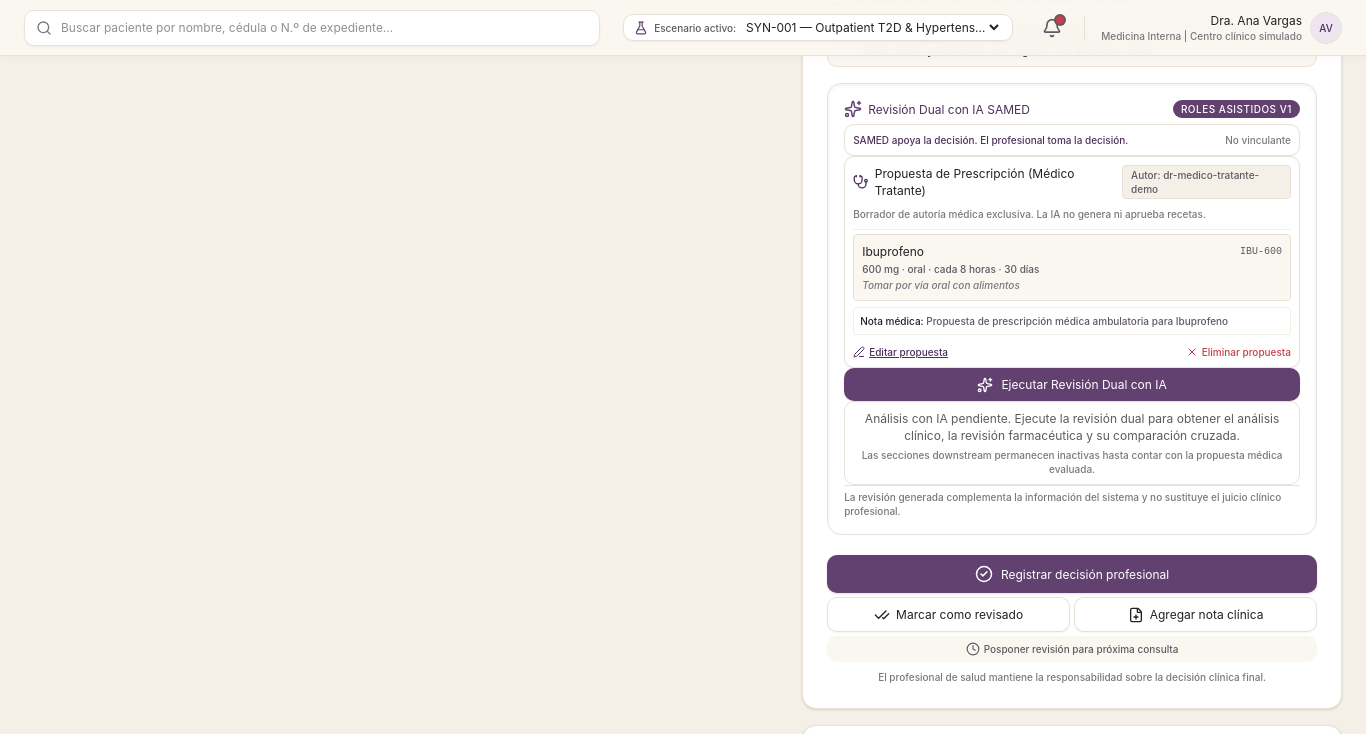
Test case: MedicationReview — SAMED Visual Baseline v1 › clears stale Dual AI review results and resets draft when switching scenario
(page scrolled)
# Run AI review
Step 1. Click the button "Ejecutar Revisión Dual con IA" → (1072, 384), box [844, 368, 1300, 401]
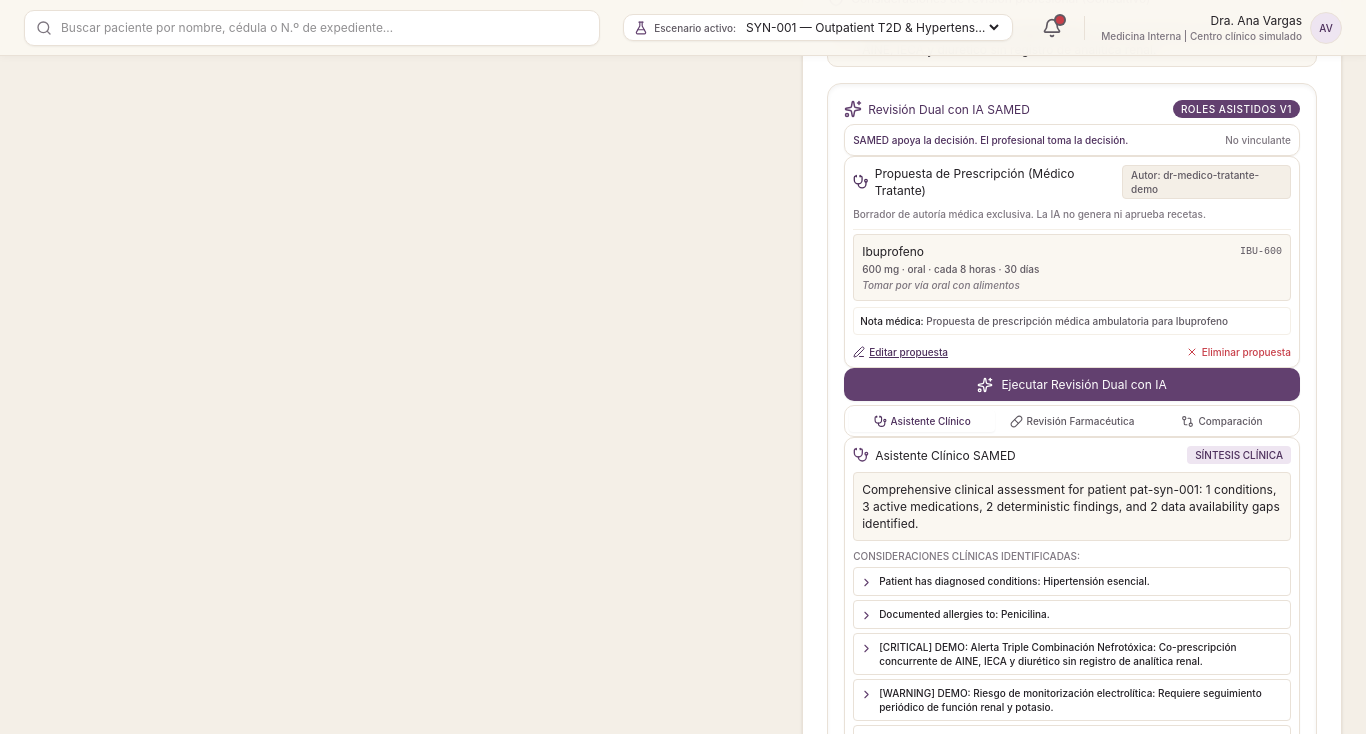
# Switch scenario
Step 2. Select "SYN-002 — Renal Function Concern" in the dropdown named "seleccionar escenario sintético activo" → (872, 28), box [742, 19, 1002, 36]
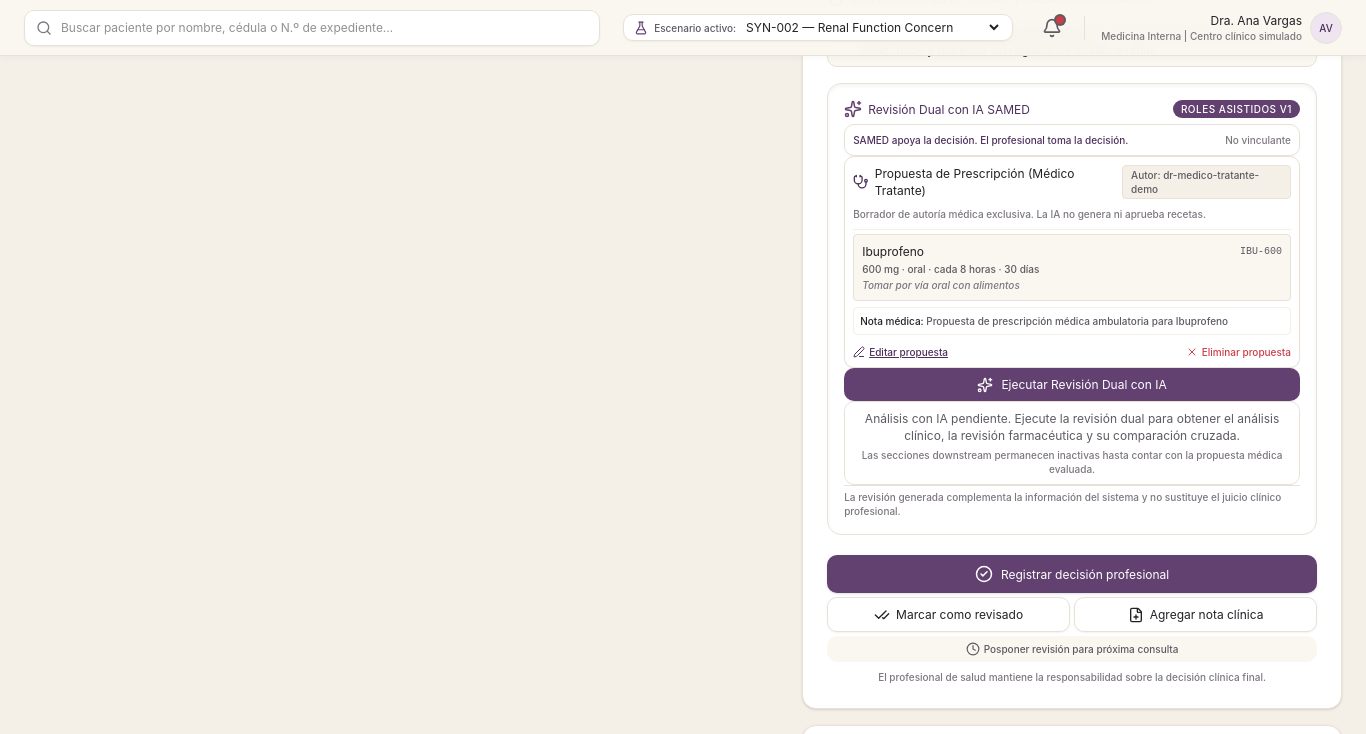
Check: the panel "Asistente Clínico SAMED" is gone
Check: the text "Análisis con IA pendiente" is shown, box [865, 411, 1279, 443]
